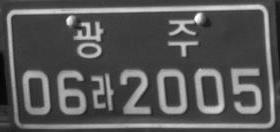0: (155, 67, 188, 115), (193, 66, 226, 114), (21, 69, 52, 116)
2: (119, 67, 151, 115)
5: (229, 66, 263, 115)
6: (56, 69, 88, 115)
광주_D: (73, 16, 198, 58)
라: (91, 72, 114, 111)
